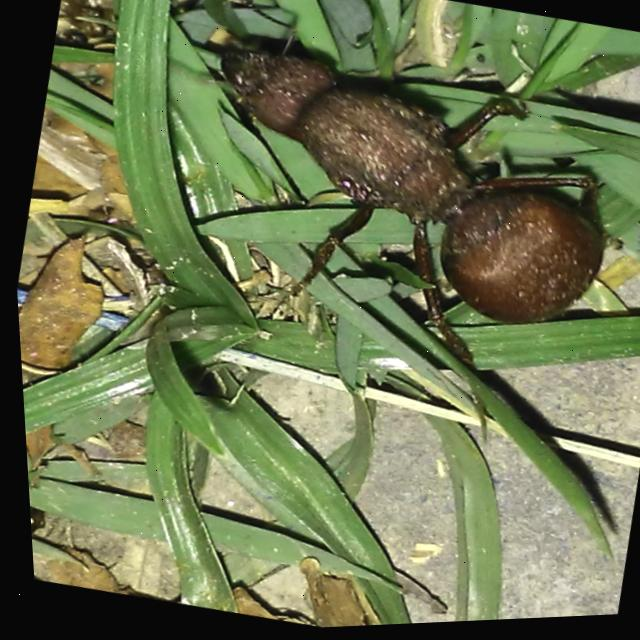Alive-Female-Dealate: (109, 0, 640, 406)
